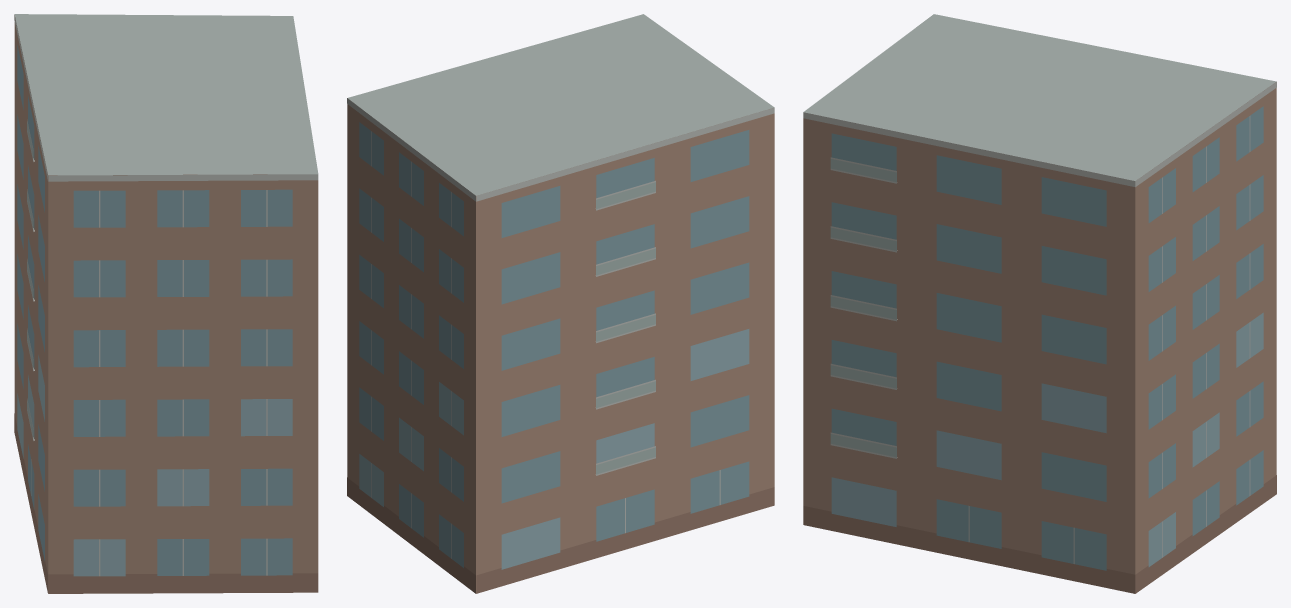
Rendered from survey-upis-32653329.glb.
3 views of the same model, side by side, from view 1: azimuth 30°, elevation 25°; view 2: azimuth 150°, elevation 25°; view 3: azimuth 270°, elevation 25° (orthographic). The views are drawn at different scales.
Parts seen in each view (by area): view 1: survey-upis-32653329.tmp; view 2: survey-upis-32653329.tmp; view 3: survey-upis-32653329.tmp.
Boxes of the visible parts, <box> form: survey-upis-32653329.tmp: <box>14,14,318,593</box>; survey-upis-32653329.tmp: <box>347,14,774,593</box>; survey-upis-32653329.tmp: <box>803,14,1276,593</box>.
Bounding box in the file's own units: 14.43 × 16.6 × 17.27.
